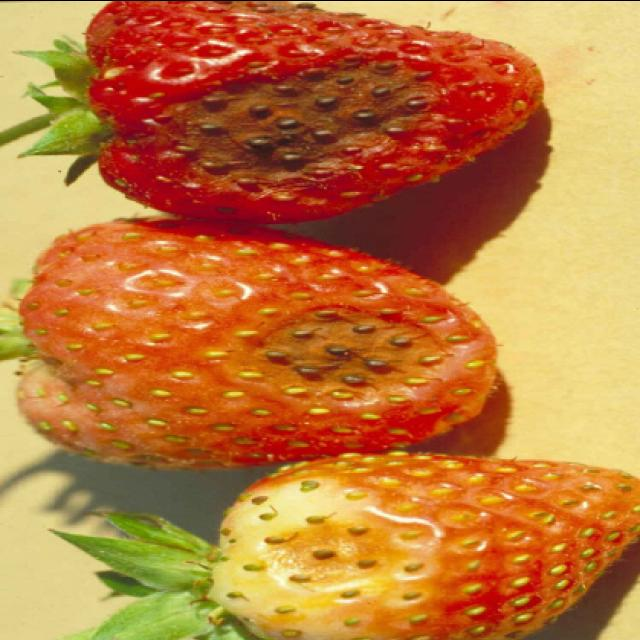Anthracnose Fruit Rot: (204, 51, 418, 182), (287, 306, 417, 390)
